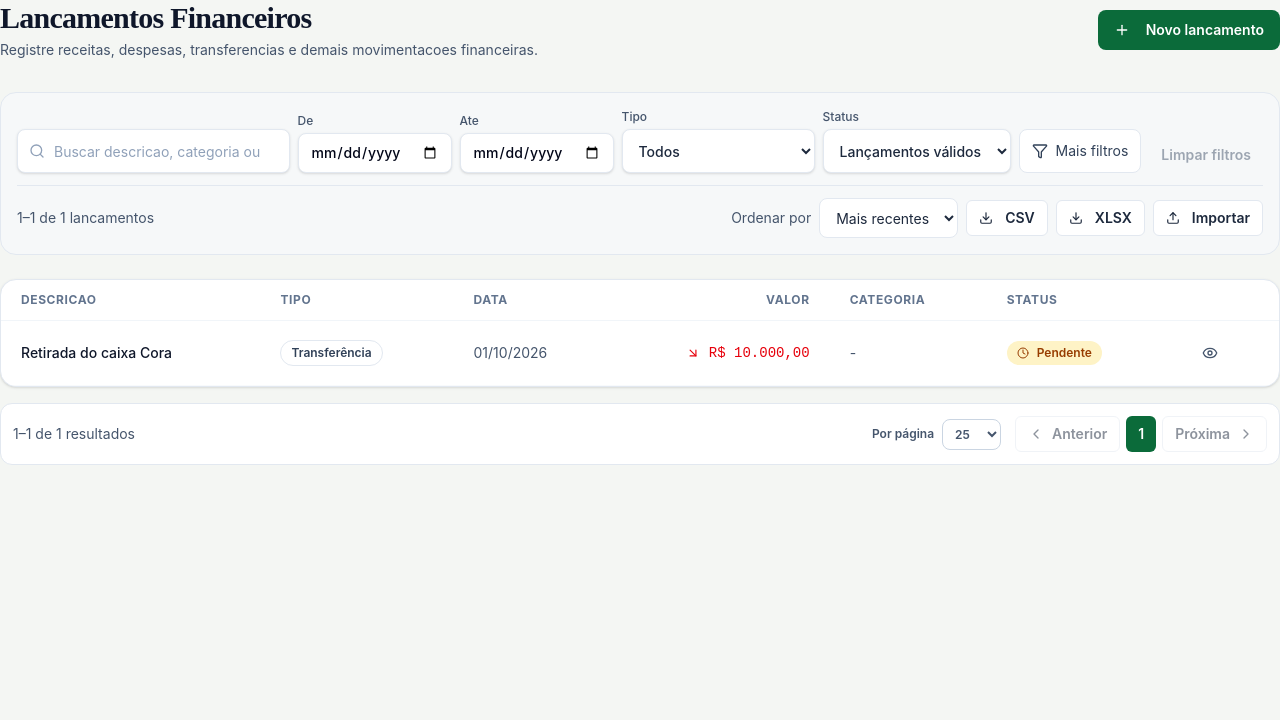
Test: TransactionsPage pending edit and action eligibility › case Cora: permite editar valor de pending e oculta Receber/Pagar para transferencia
Click the text "Retirada do caixa Cora". click: (131, 353)
box: 1,320 -> 260,386
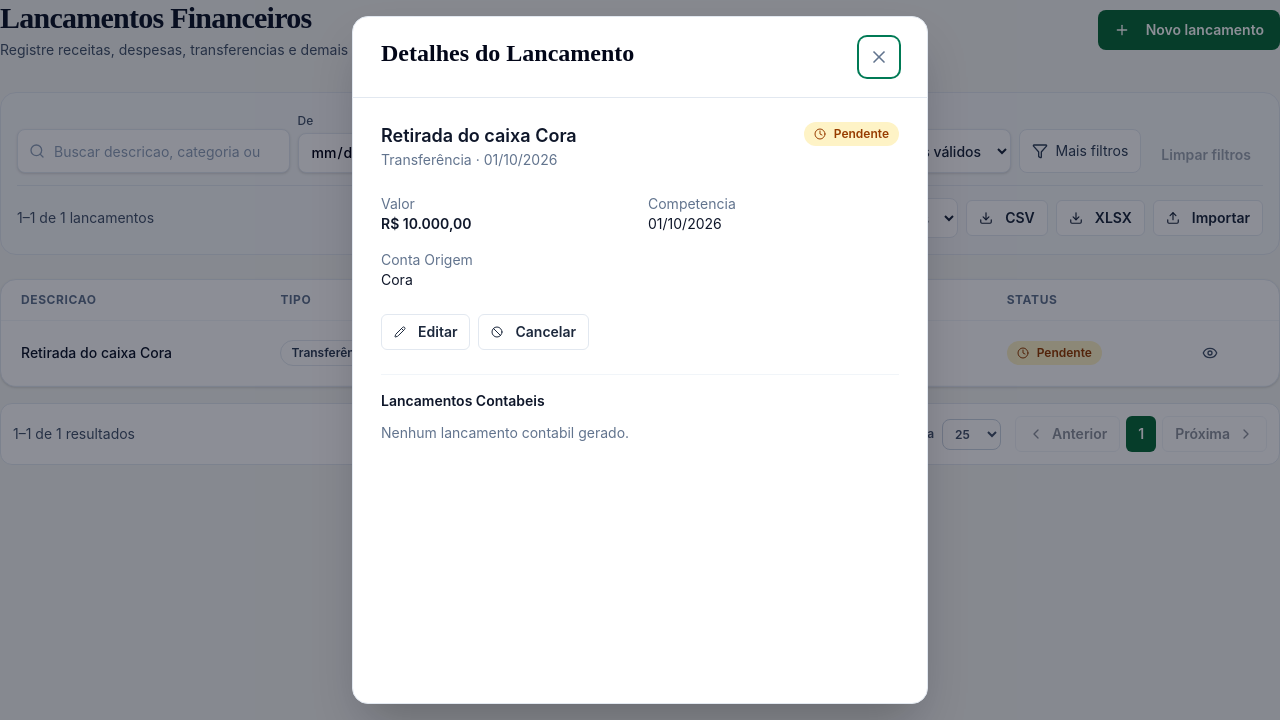
Now the heading "Detalhes do Lancamento" is shown, box 381,40 -> 634,66
Click the button "Editar". click: (426, 332)
box: 381,314 -> 470,350
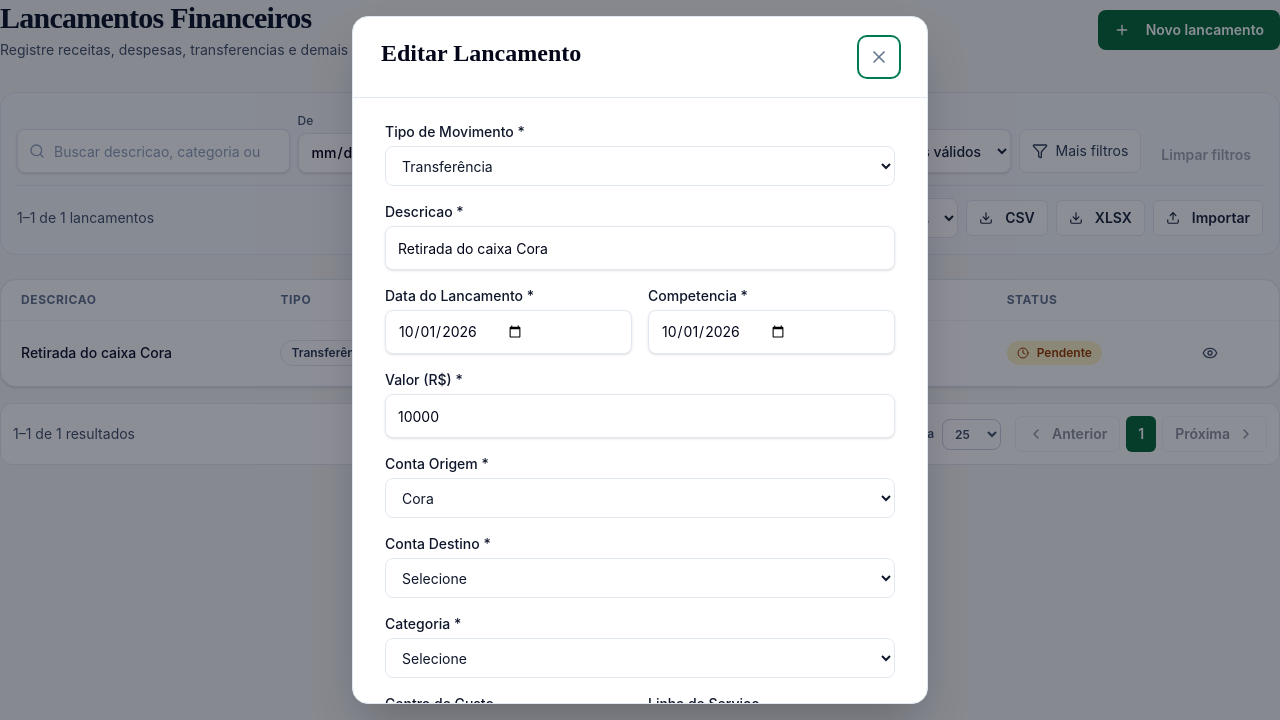
Now the heading "Editar Lancamento" is shown, box 381,40 -> 581,66
Now the number field holds "10000", box 385,394 -> 895,438
